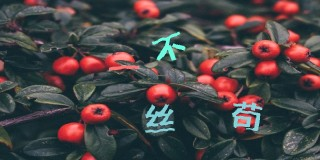一: (108, 65, 141, 70)
不: (151, 30, 186, 62)
丝: (146, 103, 176, 132)
苟: (230, 100, 262, 133)
